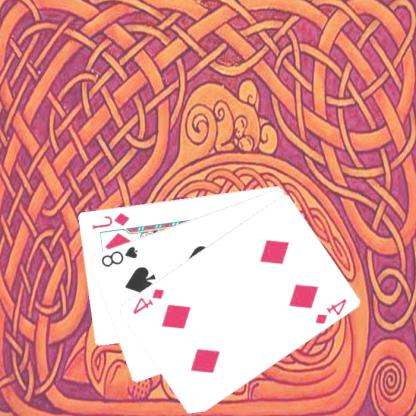4D: (131, 285, 167, 316), (313, 296, 350, 326)
8S: (100, 243, 141, 269)
JD: (91, 210, 132, 230)
